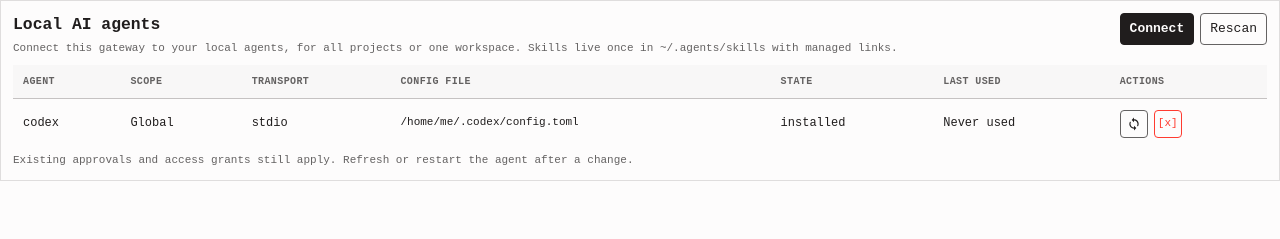
shows a per-target failure from Update as an alert
Click the button named "Update Aevra for codex (Global)" at (1134, 124), box x1=1120 y1=110 x2=1148 y2=138
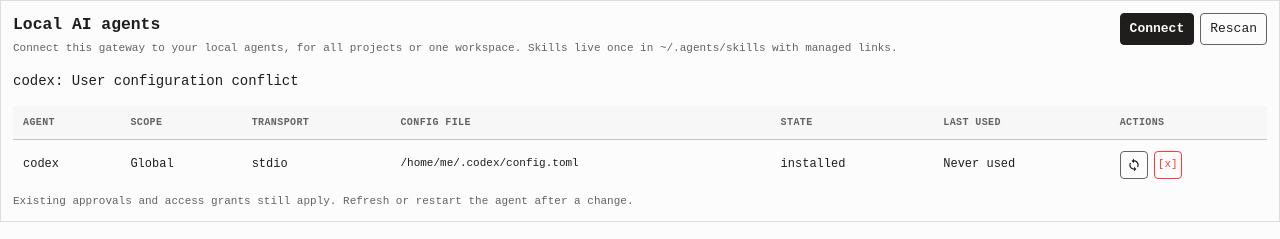
Result: the message reads "codex: User configuration conflict" at x1=13 y1=72 x2=299 y2=88
